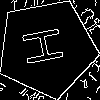H: (22, 23, 74, 68)
